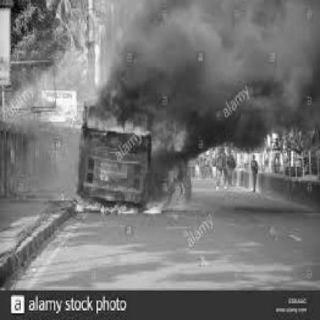Fire: (84, 95, 148, 141)
